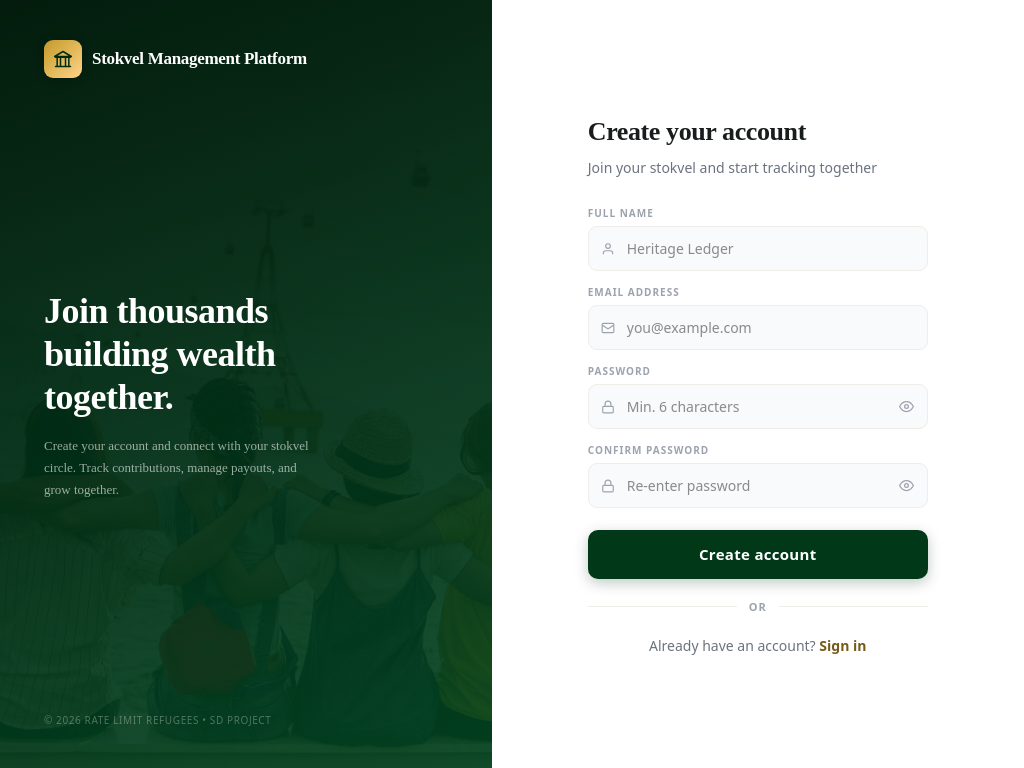
Test case: SignUp › shows error when password is too short
The width and height of the screenshot is (1024, 768).
In the field with placeholder "Heritage Ledger": point(758, 248) [588, 226, 928, 271], type "Test User"
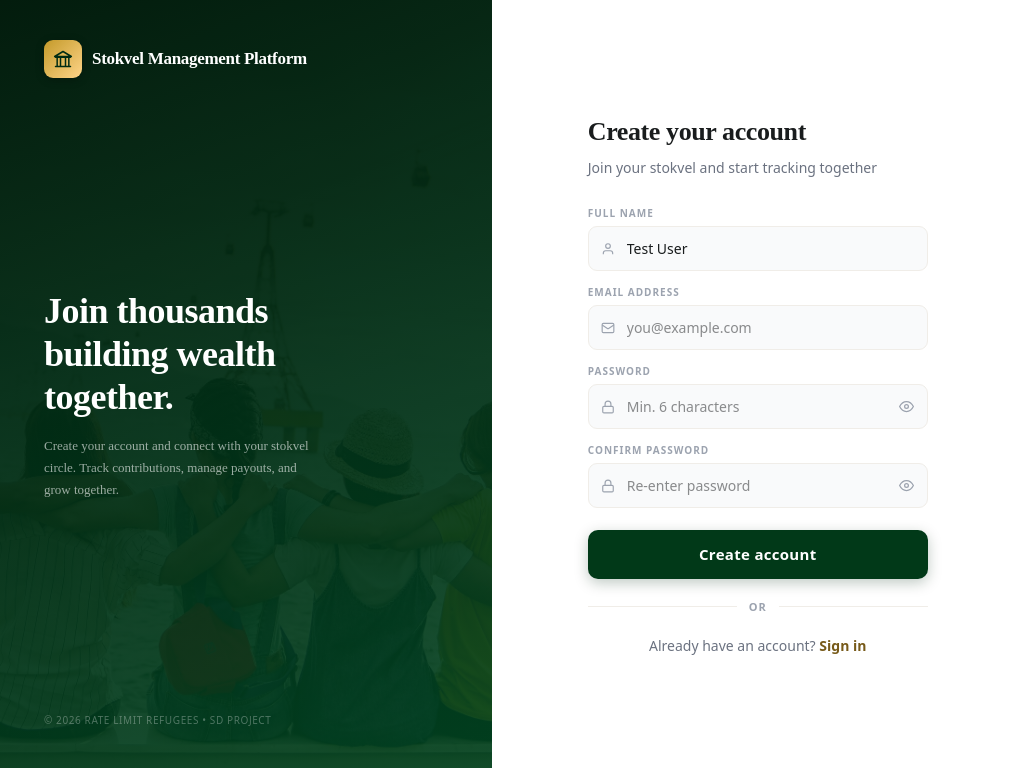
In the field with placeholder "you@example.com": point(758, 328) [588, 305, 928, 350], type "test@test.com"
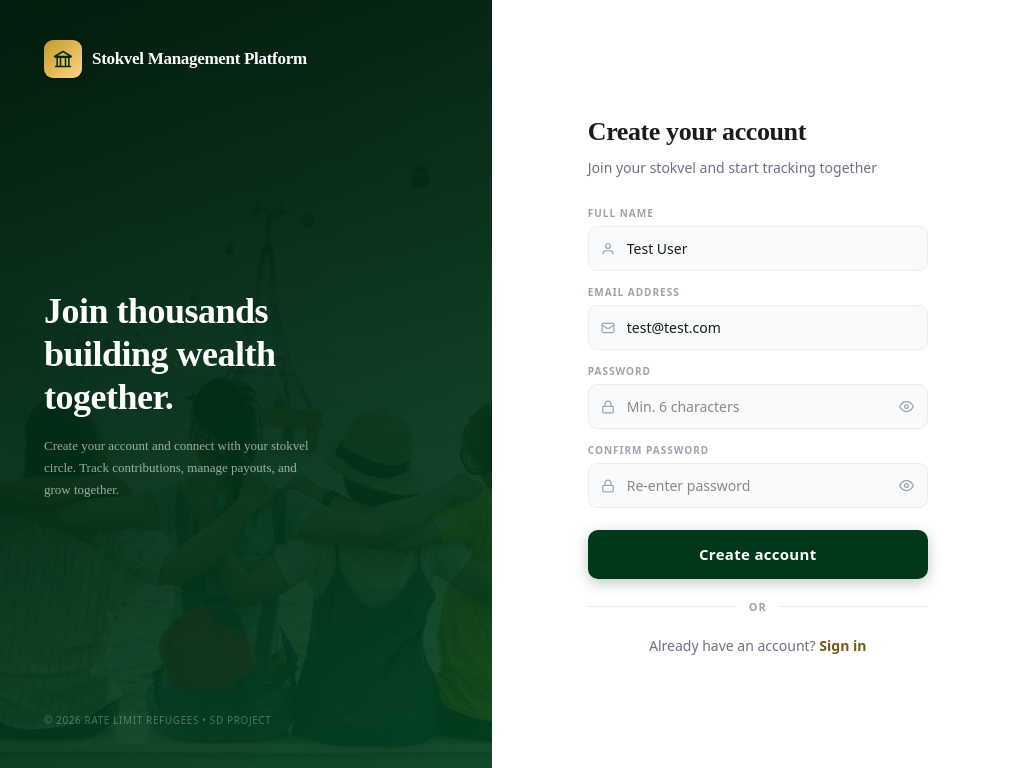
In the password field with placeholder "Min. 6 characters": point(758, 406) [588, 384, 928, 429], type "abc"
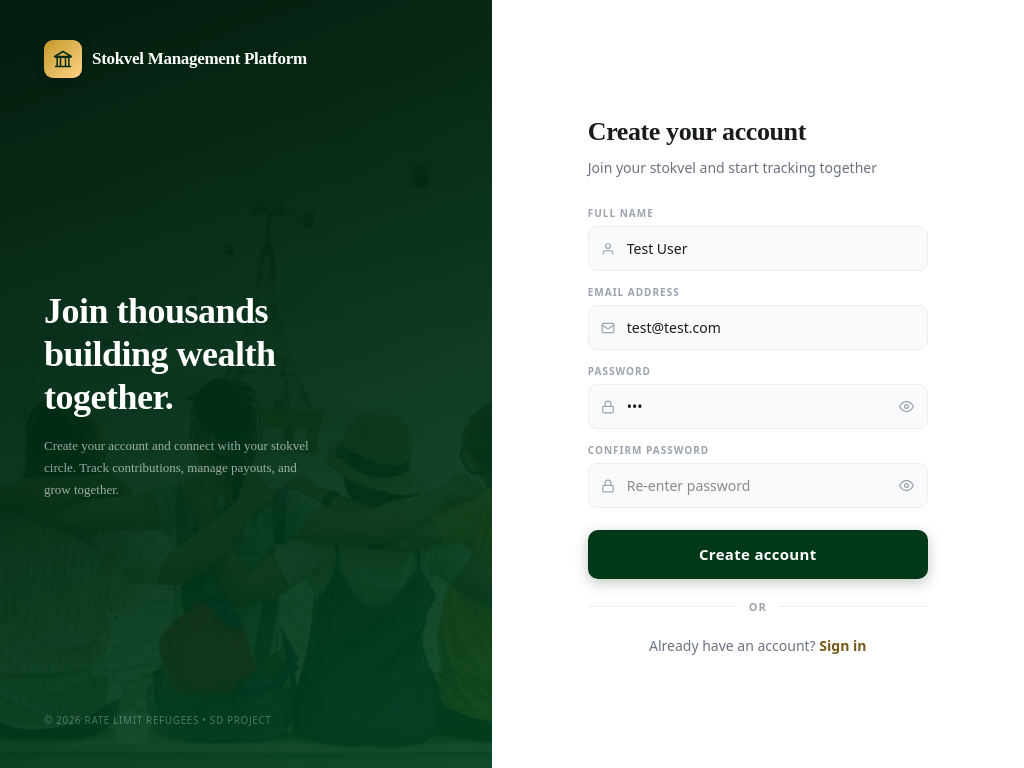
In the password field with placeholder "Re-enter password": point(758, 486) [588, 463, 928, 508], type "abc"
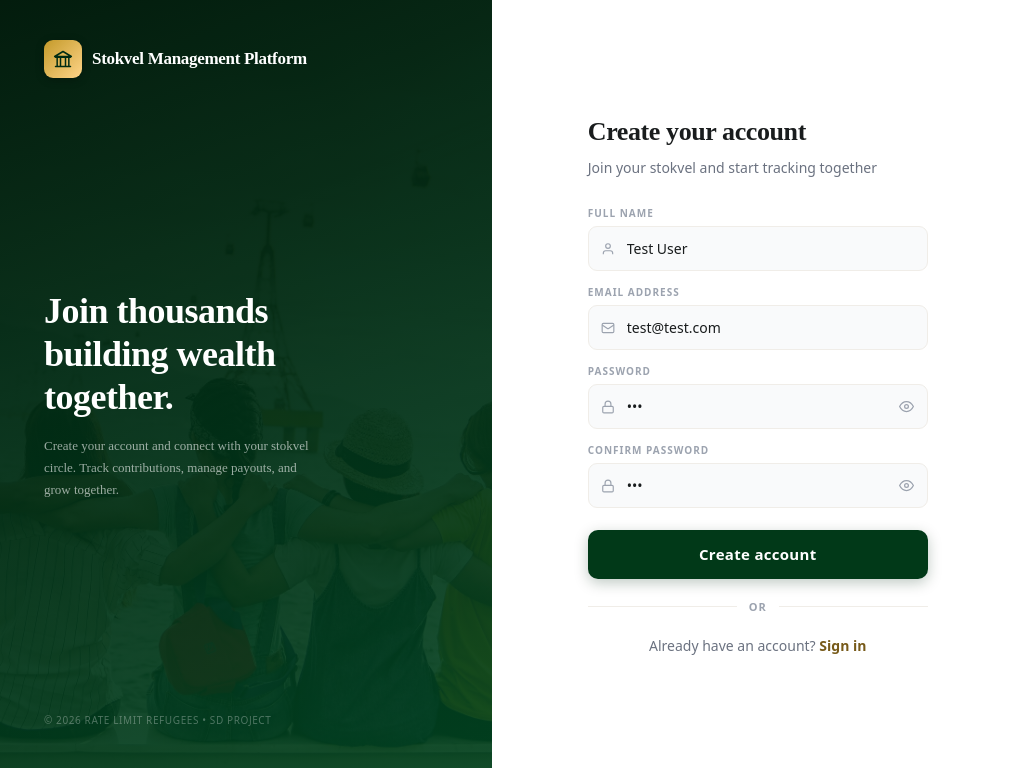
Submit the form "Create account", box [588, 206, 928, 578]
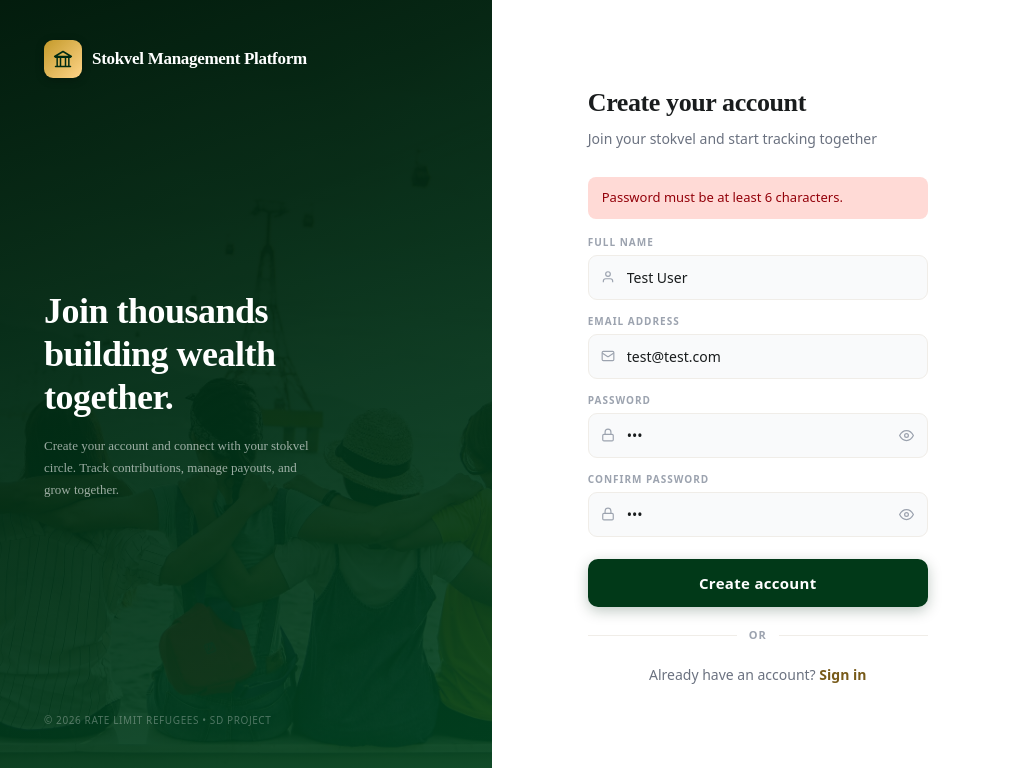
Expected: the text "Password must be at least 6 characters." is shown, [588, 177, 928, 219]
